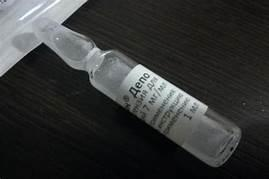Syringe: (27, 12, 247, 172)
